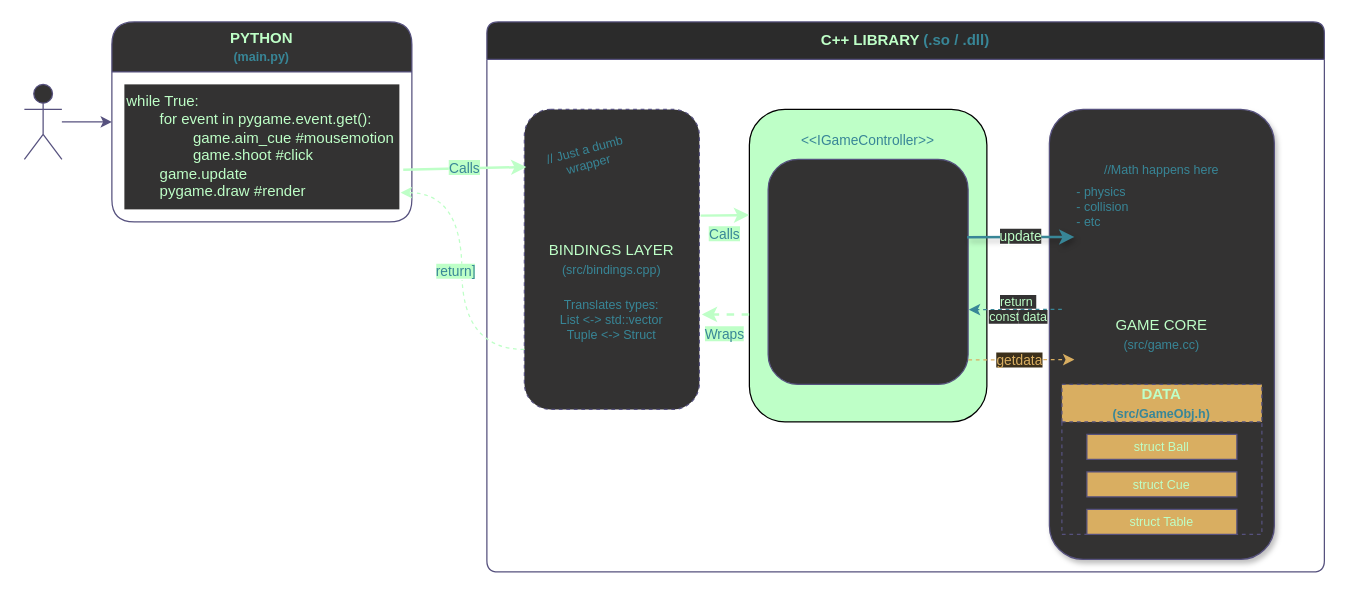
The diagram is 1346 pixels wide and 594 high, and some of its shapes have lost their labels. Here are the shapes that lost their labels. From the top down, the centre of each, then its label:
At point (42, 121): "Player".
At point (867, 271): "CONTROLLER (src/controller.cc) What should I do with this event?".
